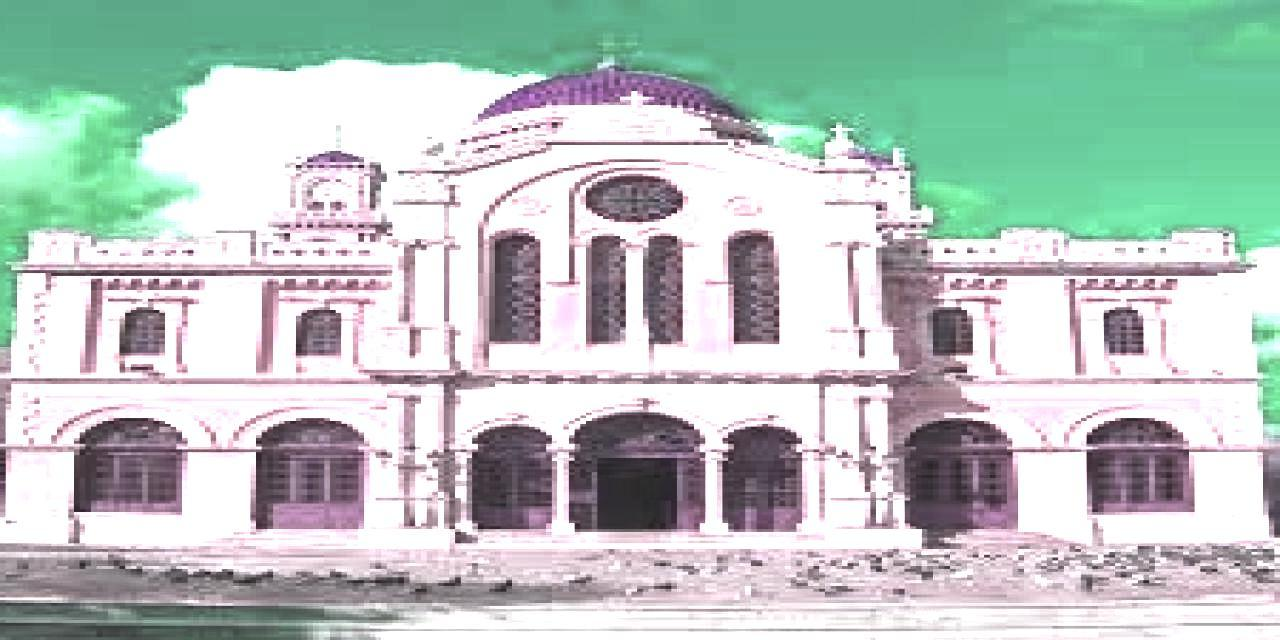Agios Minas: (1, 37, 1273, 551)
